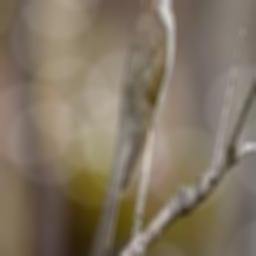Cuckoo: (88, 0, 181, 256)
